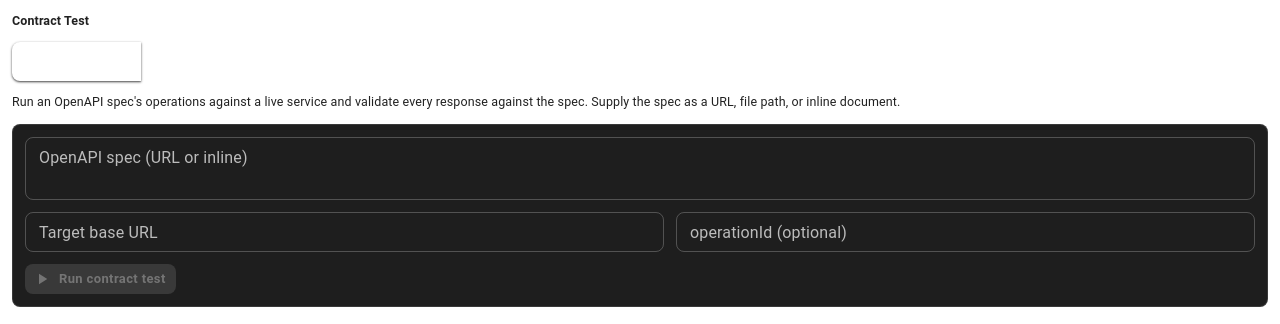
Test: ContractTestPanel — Validate Recorded Traffic mode › switches to traffic mode, hiding the base-URL field and enabling Run with only a spec
Click the button "Validate Recorded Traffic" at (226,62), box [140,42,313,81]
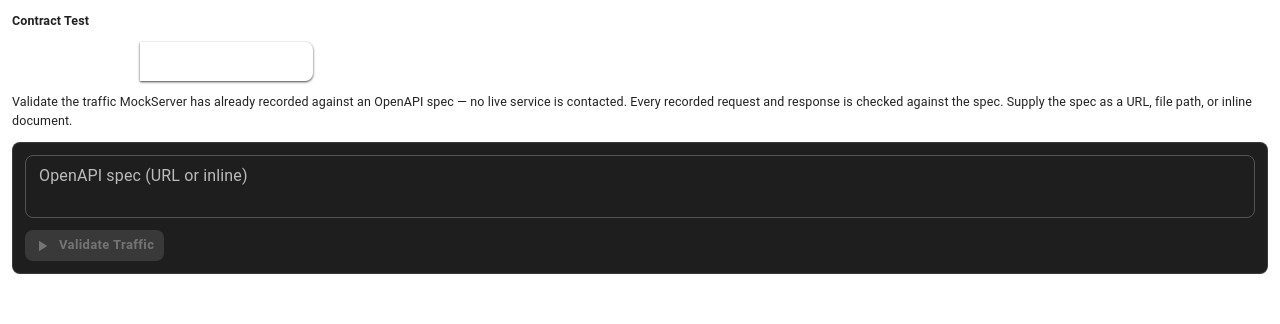
Expected: the button "Validate Traffic" is disabled, [25,230,164,261]
Expected: the label "Target base URL" is gone
Expected: the text "no live service is contacted" is shown, [12,94,1252,128]
Type "https://example.com/openapi.json" into the text box labelled "OpenAPI spec (URL or inline)" at (640,187), box [39,164,1241,210]
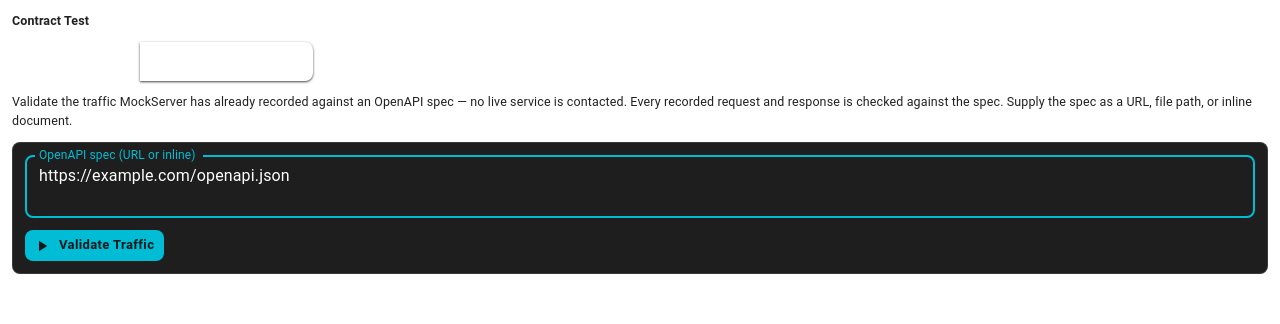
Expected: the button "Validate Traffic" is enabled, [25,230,164,261]
